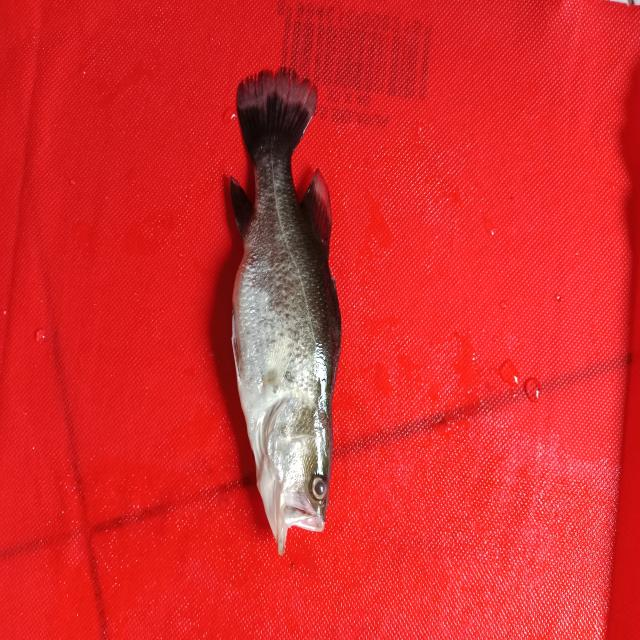ikan: (175, 62, 372, 560)
